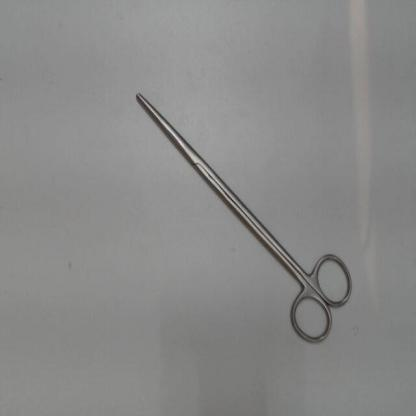9 Metzenbaum Scissors: (132, 88, 358, 351)
